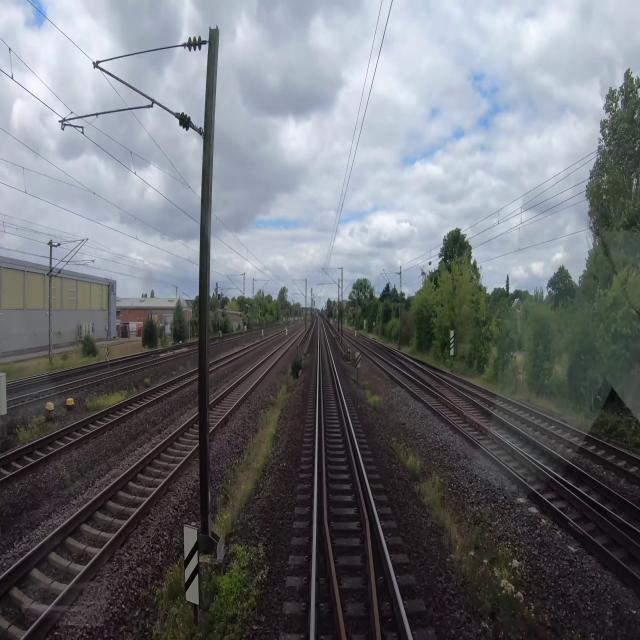Plant: (140, 353, 304, 639), (390, 437, 584, 639), (13, 414, 62, 446), (85, 383, 141, 410), (359, 378, 386, 413), (61, 470, 78, 495), (144, 377, 151, 388)
